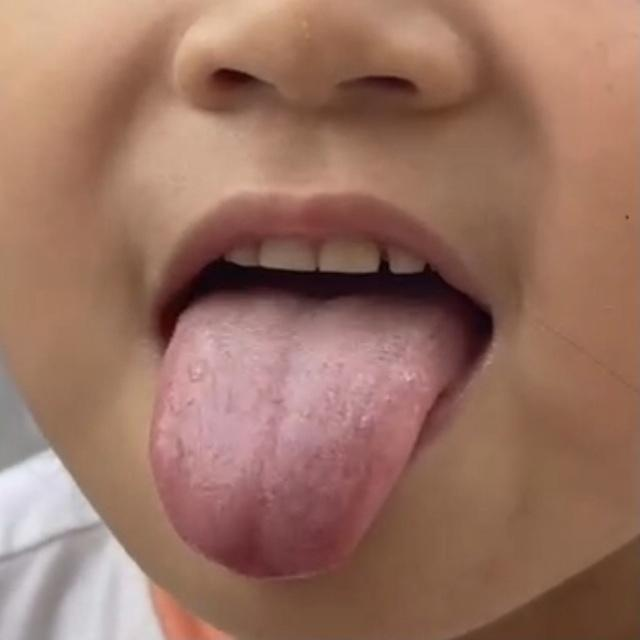baitaishe: (148, 290, 463, 579)
